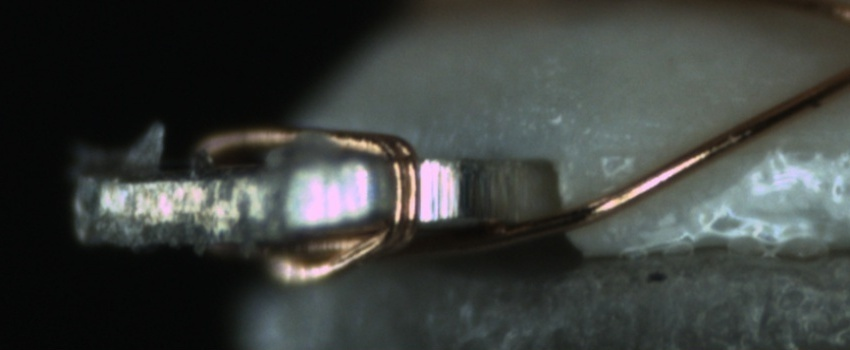TE: (192, 103, 435, 260)
